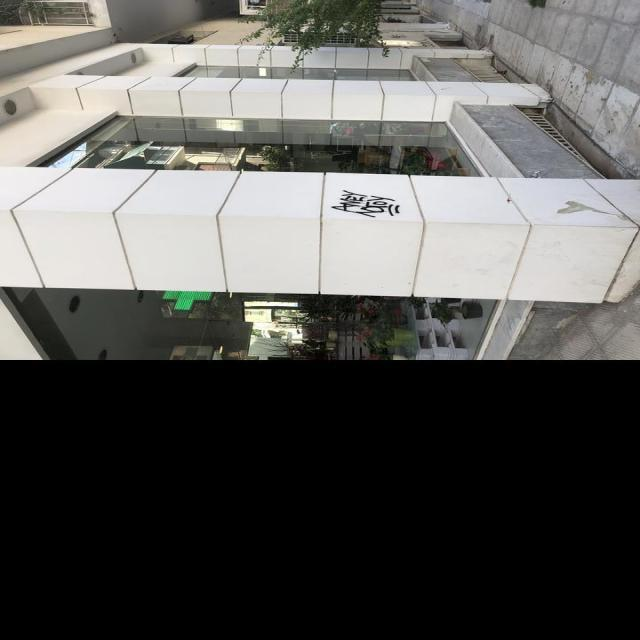nonspitting: (330, 190, 400, 220)
